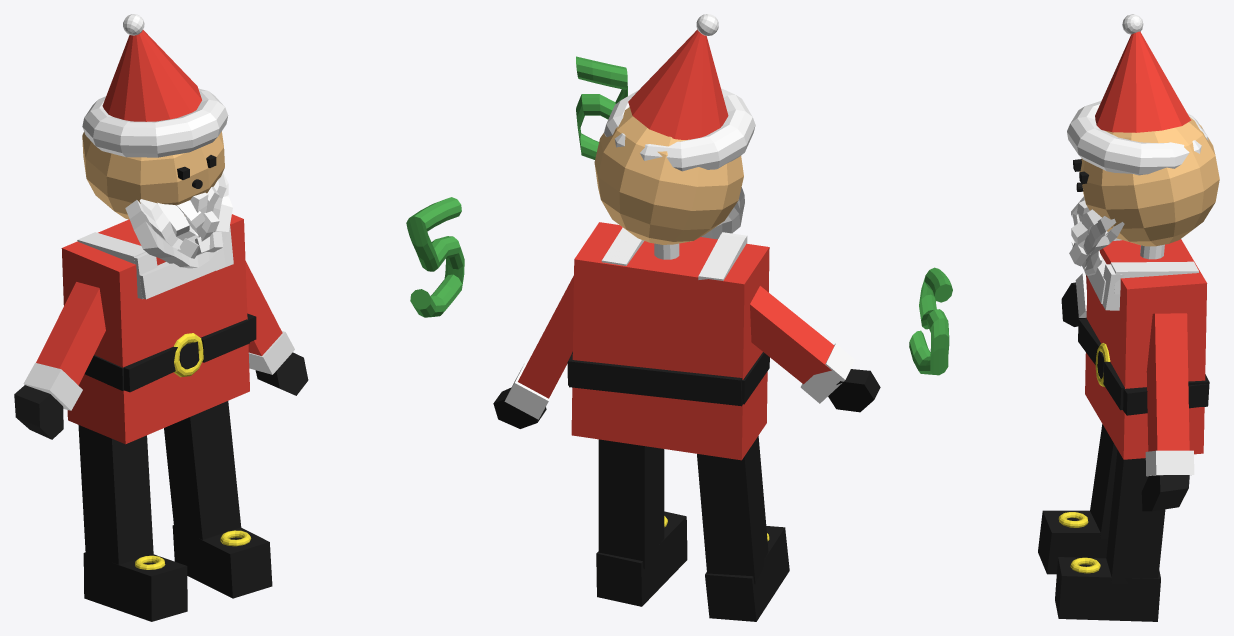
File: santa.obj
3 views of the same model, side by side, from view 1: azimuth 30°, elevation 25°; view 2: azimuth 150°, elevation 25°; view 3: azimuth 270°, elevation 25° (orthographic). The views are drawn at different scales.
Parts seen in each view (by area): view 1: group1662078326, group1991632243, group878256232, group1995087271, group1294685357, group1056080402, group1368381708, group580069413, group1323119169, group611968650, group2084948465, group295788004 (+12 smaller); view 2: group1662078326, group1995087271, group1991632243, group878256232, group1294685357, group477023928, group611968650, group1056080402, group580069413, group1368381708, group1934476669, group1323119169 (+8 smaller); view 3: group1662078326, group1995087271, group1294685357, group1934476669, group878256232, group580069413, group1056080402, group1323119169, group1368381708, group1991632243, group650468255, group1606576510 (+10 smaller).
Part boxes in pixels (x1,y1,x2,y2): group1662078326: [61, 214, 249, 444]; group1991632243: [78, 425, 153, 567]; group878256232: [164, 401, 241, 541]; group1995087271: [82, 131, 224, 219]; group1294685357: [102, 30, 201, 121]; group1056080402: [82, 88, 228, 157]; group1368381708: [83, 552, 187, 621]; group580069413: [172, 525, 272, 598]; group1323119169: [406, 197, 464, 317]; group611968650: [36, 282, 105, 385]; group2084948465: [125, 172, 232, 268]; group295788004: [14, 385, 63, 439]; group1662078326: [571, 222, 769, 460]; group1995087271: [594, 107, 743, 244]; group1991632243: [697, 436, 768, 584]; group878256232: [598, 439, 664, 569]; group1294685357: [628, 29, 728, 139]; group477023928: [568, 354, 742, 406]; group611968650: [750, 286, 834, 384]; group1056080402: [604, 88, 755, 171]; group580069413: [596, 511, 687, 606]; group1368381708: [705, 526, 789, 621]; group1934476669: [518, 275, 573, 398]; group1323119169: [576, 56, 627, 159]; group1662078326: [1085, 239, 1207, 459]; group1995087271: [1079, 117, 1219, 246]; group1294685357: [1095, 31, 1191, 132]; group1934476669: [1146, 313, 1189, 451]; group878256232: [1106, 449, 1165, 583]; group580069413: [1055, 557, 1160, 621]; group1056080402: [1067, 100, 1208, 175]; group1323119169: [909, 267, 952, 375]; group1368381708: [1038, 510, 1108, 574]; group1991632243: [1090, 424, 1117, 538]; group650468255: [1141, 475, 1189, 511]; group1606576510: [1110, 261, 1198, 294].
Size of the model in its own units: 1.36 by 2.04 by 1.02.
